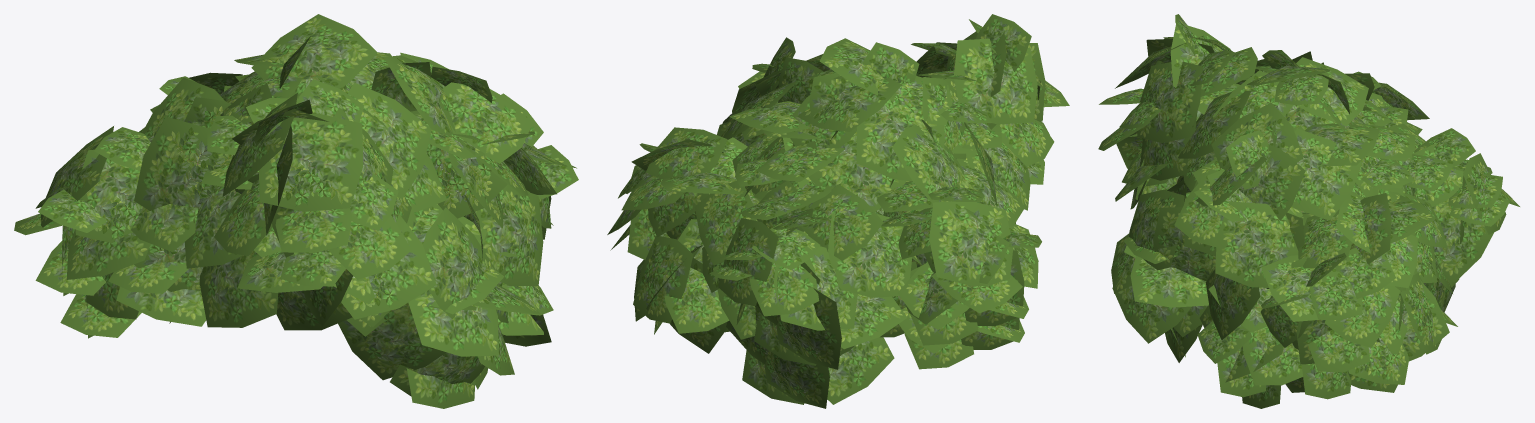
The model's file is ElmTreeLeaves_01.fbx.
3 views of the same model, side by side, from view 1: azimuth 30°, elevation 25°; view 2: azimuth 150°, elevation 25°; view 3: azimuth 270°, elevation 25° (orthographic). The views are drawn at different scales.
Parts seen in each view (by area): view 1: ElmTreeLeaves_01; view 2: ElmTreeLeaves_01; view 3: ElmTreeLeaves_01.
Boxes of the visible parts, x1,y1,x2,y2 form: ElmTreeLeaves_01: [14, 14, 578, 408]; ElmTreeLeaves_01: [607, 14, 1069, 408]; ElmTreeLeaves_01: [1098, 14, 1519, 408].
Size of the model in its own units: 31.69 by 22.31 by 28.64.
Materials: 1 (1 with a texture image).
